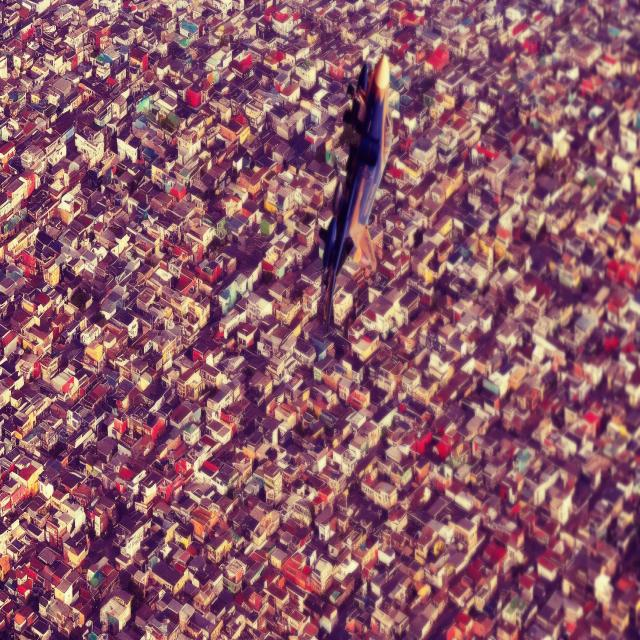airplane: (316, 52, 394, 336)
